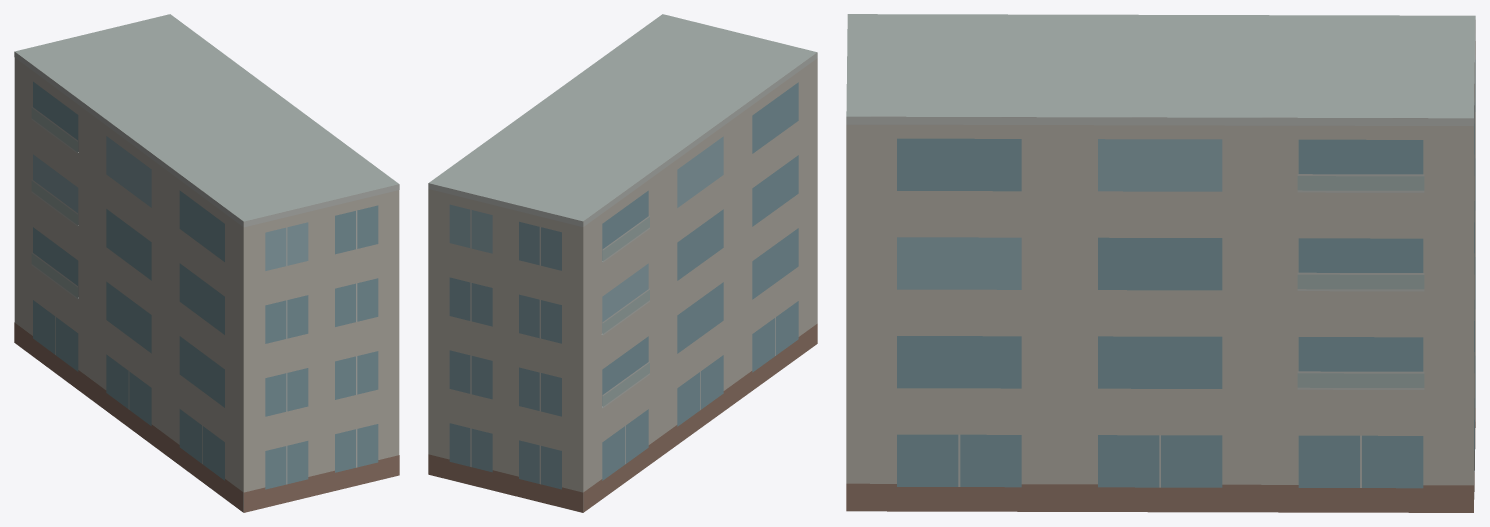
The model's file is survey-upis-32823093.glb.
3 views of the same model, side by side, from view 1: azimuth 30°, elevation 25°; view 2: azimuth 150°, elevation 25°; view 3: azimuth 270°, elevation 25° (orthographic). The views are drawn at different scales.
Parts seen in each view (by area): view 1: survey-upis-32823093.tmp; view 2: survey-upis-32823093.tmp; view 3: survey-upis-32823093.tmp.
Part boxes in pixels (box(x1,y1,x2,y2)): survey-upis-32823093.tmp: box(14, 14, 399, 512); survey-upis-32823093.tmp: box(428, 14, 817, 512); survey-upis-32823093.tmp: box(846, 14, 1475, 512).
Size of the model in its own units: 6.95 by 12.2 by 17.64.
